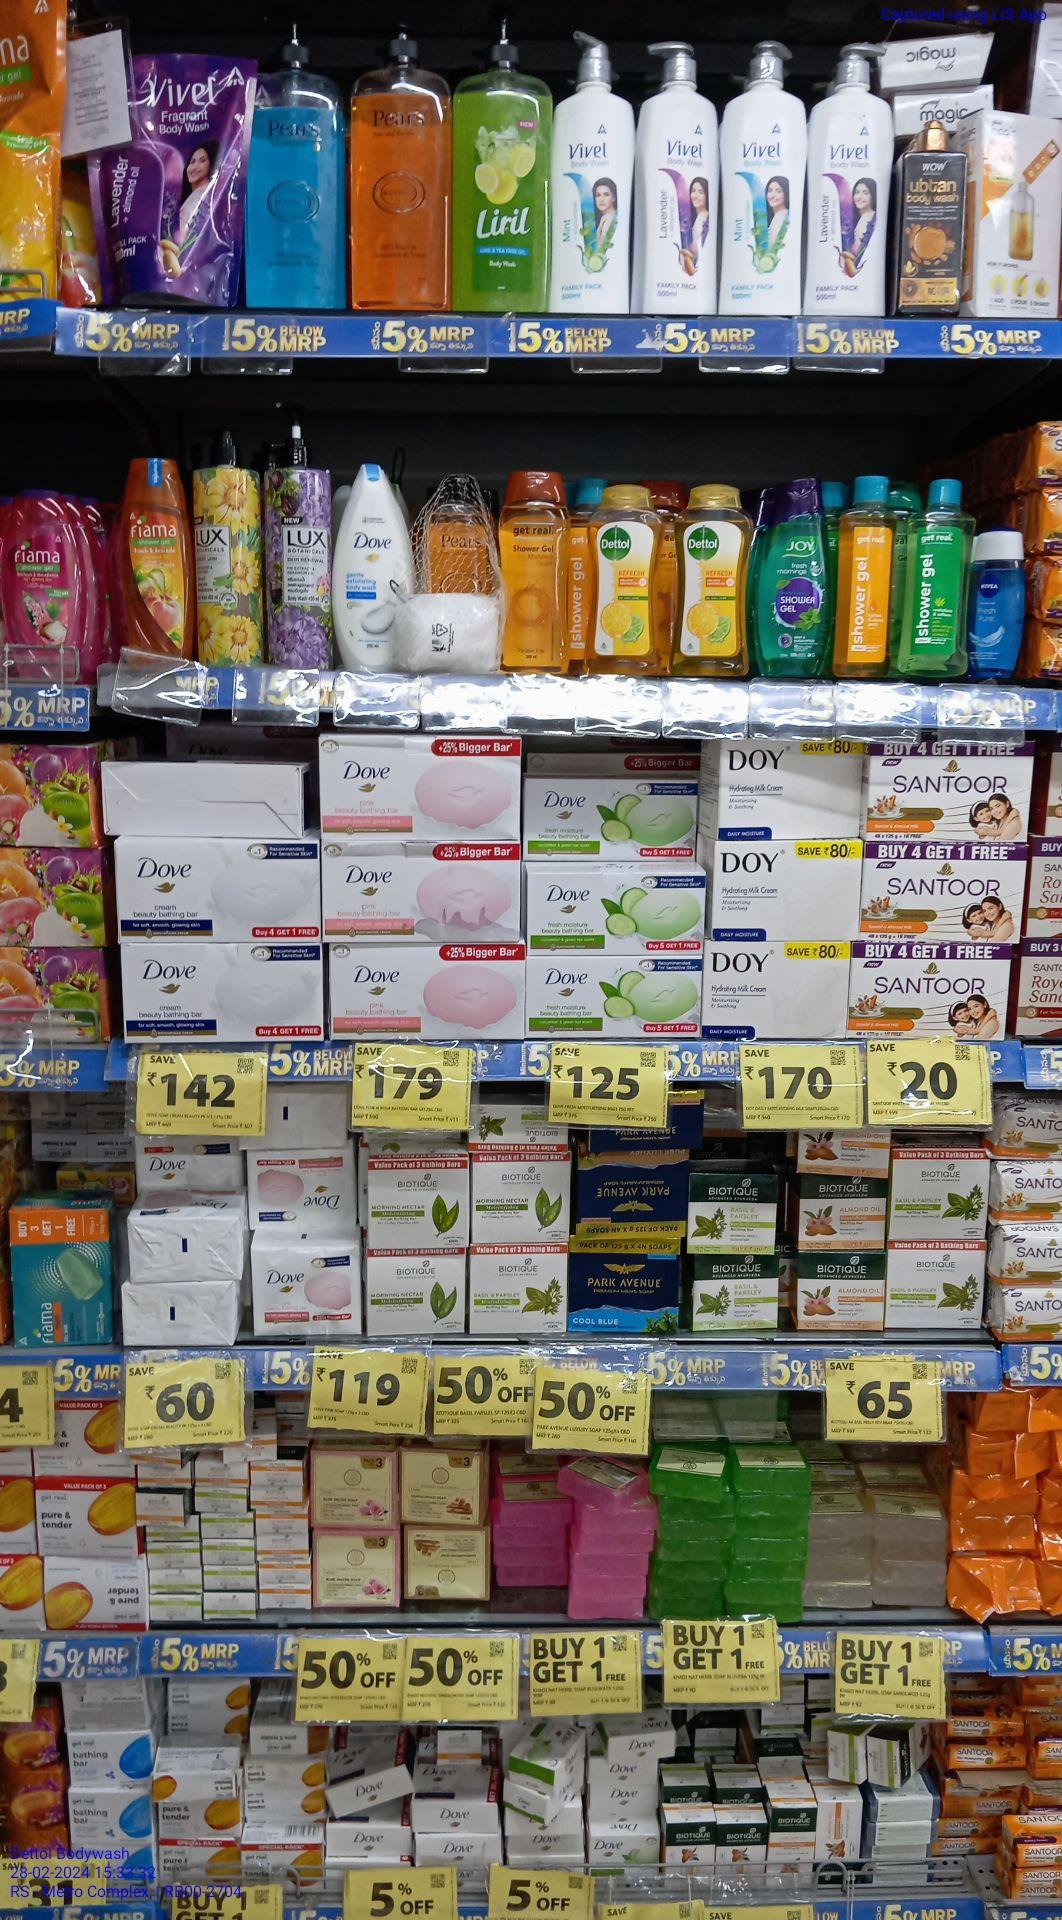Dettol_Bodywash_Refresh: (589, 484, 659, 681), (676, 480, 743, 677)
Dove_Gentle_Exfoliating_Body_Wash_250ML: (335, 463, 409, 671)
Fiama_Shower_Gel_Patchouli_and_Macadamia_250ML: (5, 487, 77, 683)
Get_Real_Shower_Gel_Moisturising_Glycerin_300ML: (502, 466, 568, 676)
Joy_Shower_Gel_Mint_and_Eucalyptus_250ML: (755, 480, 829, 680)
